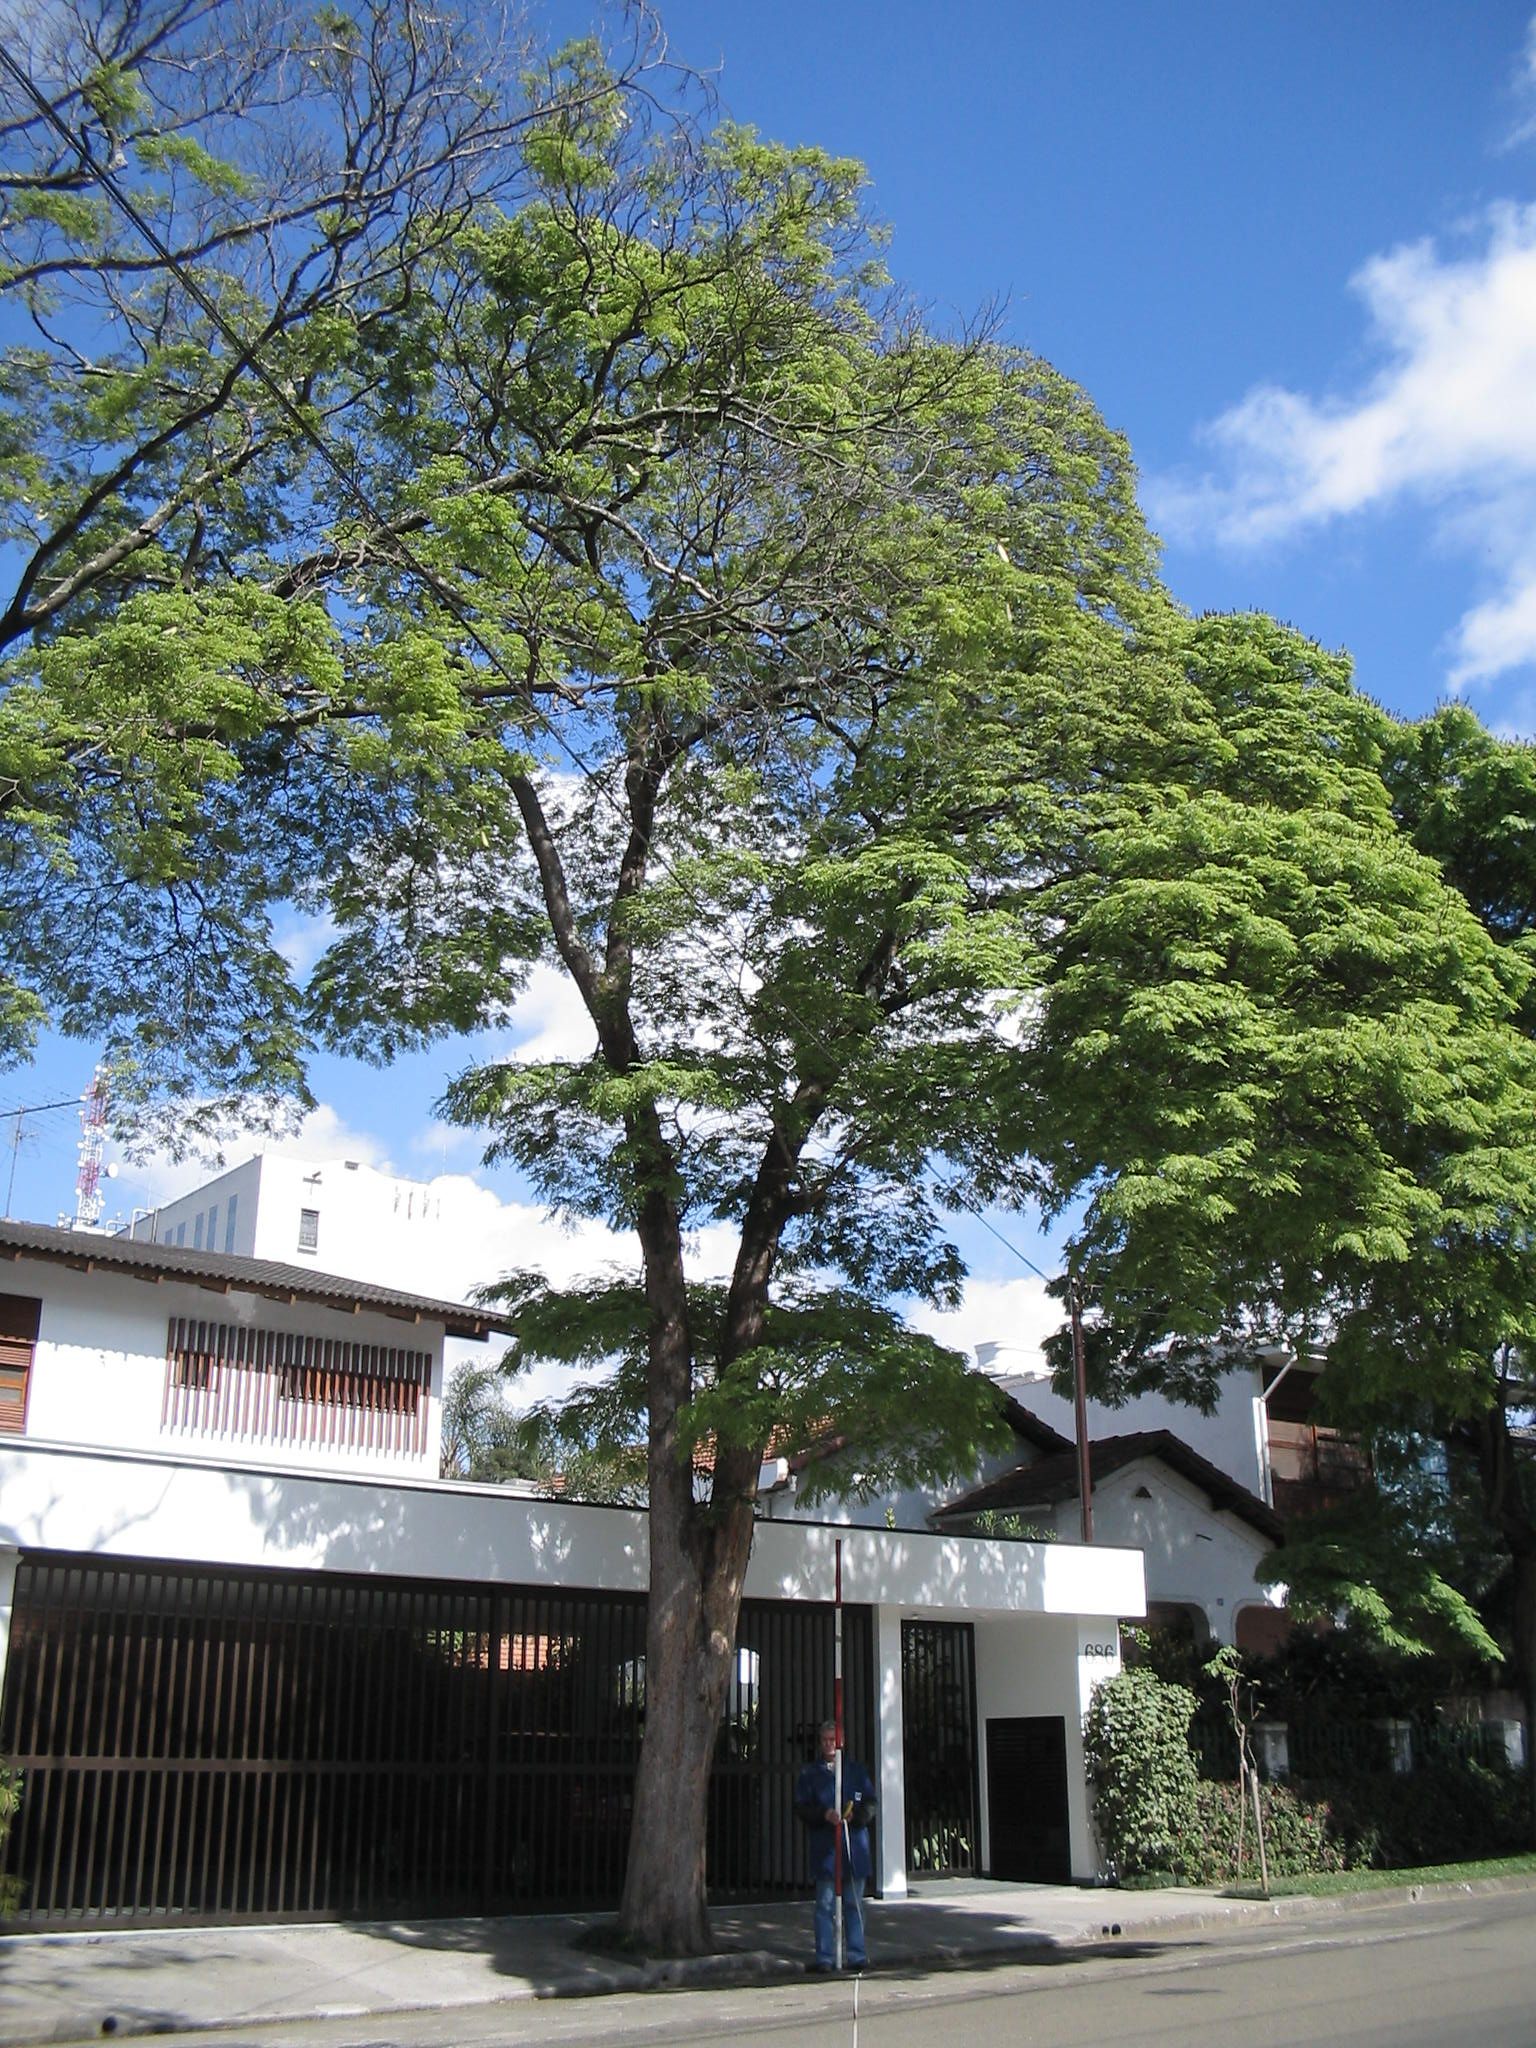crown: (39, 276, 1517, 1496)
stem: (570, 1521, 783, 1950)
stick: (799, 1540, 878, 1966)
tree: (31, 271, 1525, 1961)
